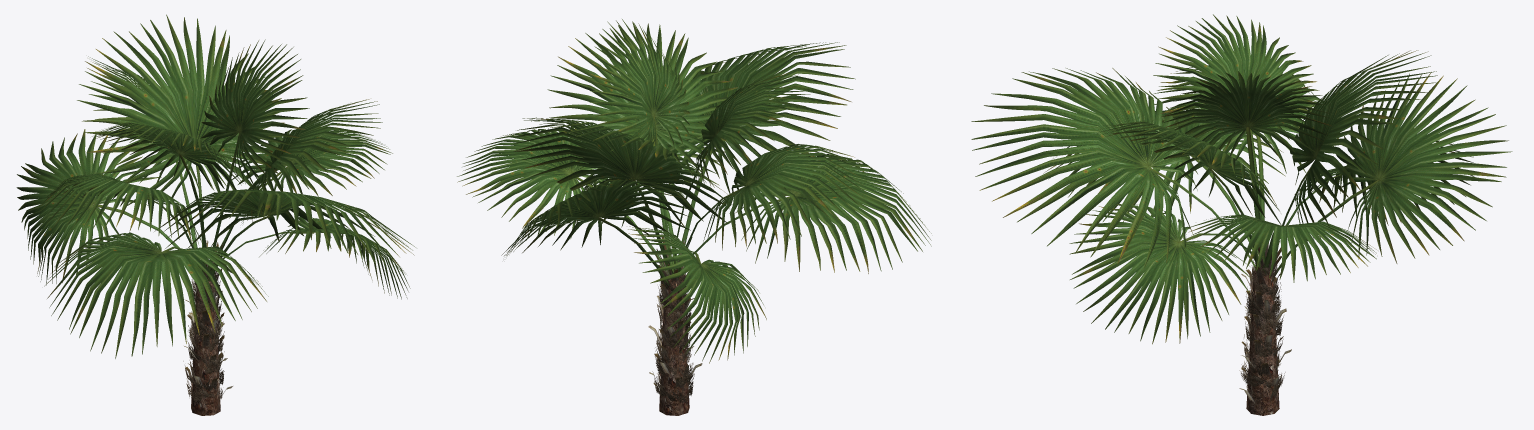
The model's file is MK4_WindmillPalm1.DAE.
The picture shows the model from 3 angles, left to right: view 1: azimuth 30°, elevation 25°; view 2: azimuth 150°, elevation 25°; view 3: azimuth 270°, elevation 25°; orthographic projection. The views are drawn at different scales.
Parts seen in each view (by area): view 1: MK4_WindmillPalm1; view 2: MK4_WindmillPalm1; view 3: MK4_WindmillPalm1.
Part boxes in pixels (bbox=[...]): MK4_WindmillPalm1: bbox=[16, 14, 415, 415]; MK4_WindmillPalm1: bbox=[457, 19, 931, 415]; MK4_WindmillPalm1: bbox=[971, 14, 1512, 415].
Size of what is drawn, in the model's own units: 11.92 by 13.88 by 10.41.
